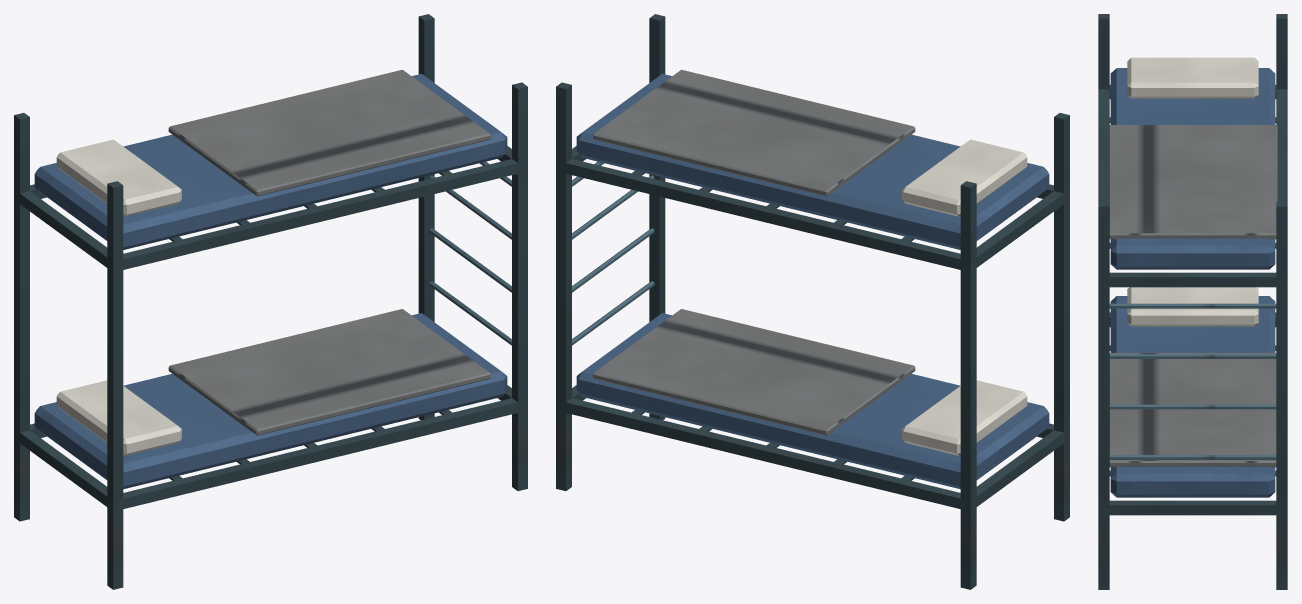
The model's file is bunk_bed.fbx.
The picture shows the model from 3 angles, left to right: view 1: azimuth 30°, elevation 25°; view 2: azimuth 150°, elevation 25°; view 3: azimuth 270°, elevation 25°; orthographic projection. The views are drawn at different scales.
Parts seen in each view (by area): view 1: bunk_bed; view 2: bunk_bed; view 3: bunk_bed.
Part boxes in pixels (x1=…): bunk_bed: x1=14, y1=14, x2=527, y2=589; bunk_bed: x1=556, y1=14, x2=1069, y2=589; bunk_bed: x1=1098, y1=14, x2=1287, y2=589.
Bounding box in the file's own units: 2.05 × 1.9 × 0.85.
Materials: 1 (1 with a texture image).
